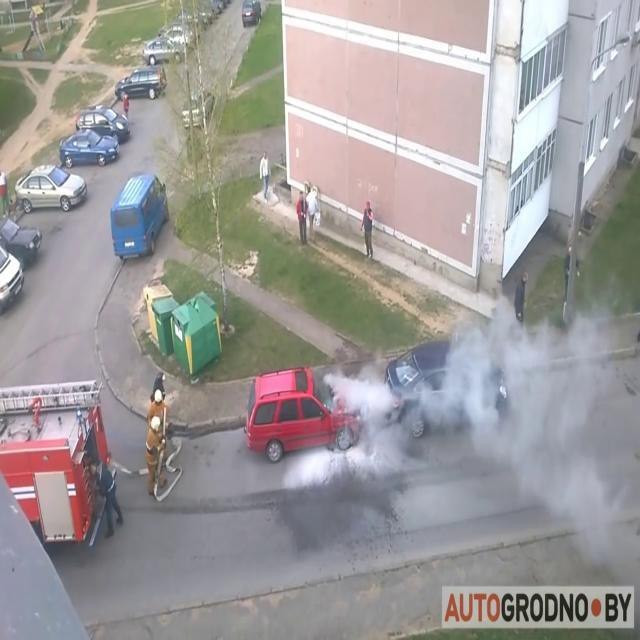Smoke: (258, 287, 636, 492)
